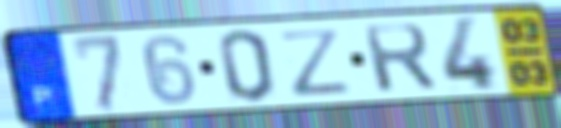0: (215, 26, 280, 106)
4: (439, 14, 502, 93)
6: (138, 32, 200, 108)
7: (68, 31, 125, 115)
R: (359, 21, 441, 95)
Z: (275, 26, 355, 98)
